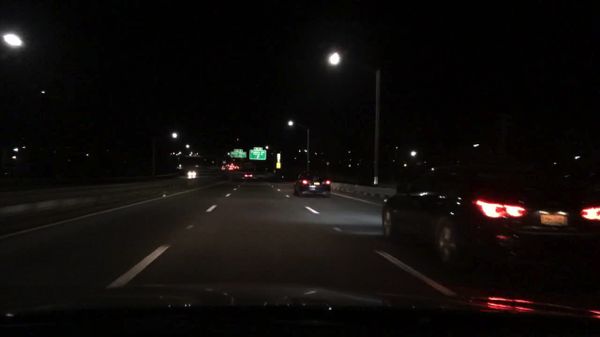car: (381, 147, 599, 275), (294, 170, 331, 198), (186, 170, 197, 177), (243, 174, 255, 180), (234, 165, 240, 170)
traffic sign: (249, 149, 266, 160), (230, 151, 247, 159), (276, 163, 281, 169), (235, 149, 243, 152), (254, 147, 261, 150)
